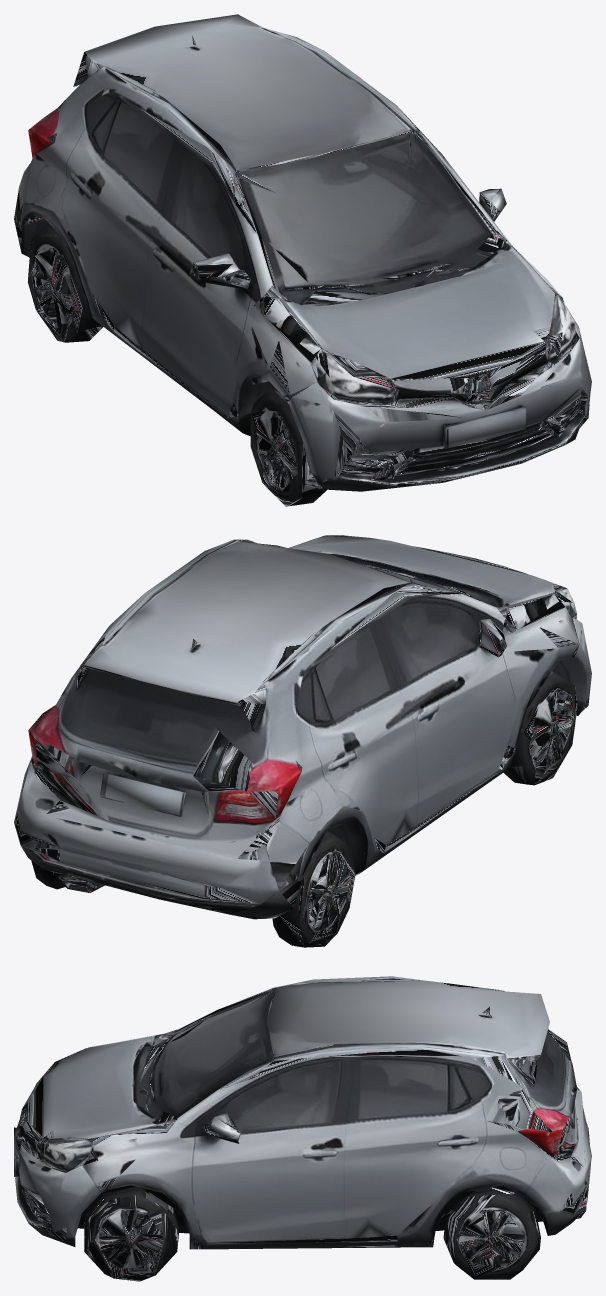
Rendered from sedan.glb.
The picture shows the model from 3 angles, top to bottom: view 1: azimuth 30°, elevation 25°; view 2: azimuth 150°, elevation 25°; view 3: azimuth 270°, elevation 25°; orthographic projection. The views are drawn at different scales.
Visible parts, largest first — view 1: tripo_node_01a22050-c340-7e52-9e7a-ae0b1a457255; view 2: tripo_node_01a22050-c340-7e52-9e7a-ae0b1a457255; view 3: tripo_node_01a22050-c340-7e52-9e7a-ae0b1a457255.
Boxes of the visible parts, bbox=[...] form: tripo_node_01a22050-c340-7e52-9e7a-ae0b1a457255: bbox=[14, 14, 591, 506]; tripo_node_01a22050-c340-7e52-9e7a-ae0b1a457255: bbox=[14, 535, 591, 947]; tripo_node_01a22050-c340-7e52-9e7a-ae0b1a457255: bbox=[14, 976, 591, 1281].
Size of the model in its own units: 0.5059 by 0.4238 by 0.9961.
Materials: 1 (1 with a texture image).
